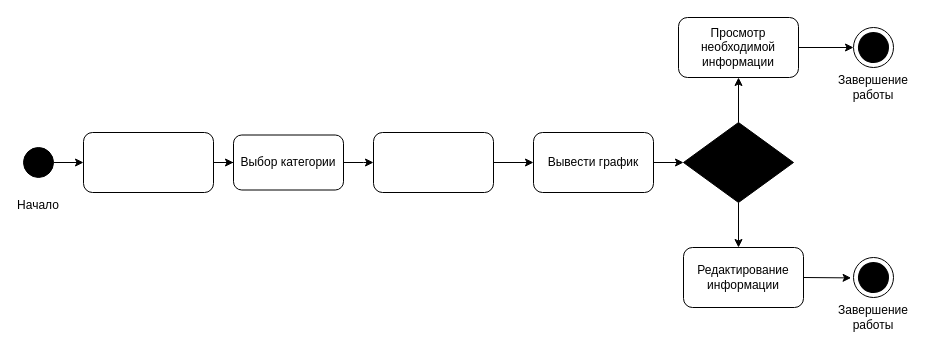
Image size: 925x349. Some labels were removed from this diagram. Here are the shapes that lost their labels. From the top down, the centre of each, then its label:
At (148,162): "Приветственное меню".
At (433,162): "Админ панель".
